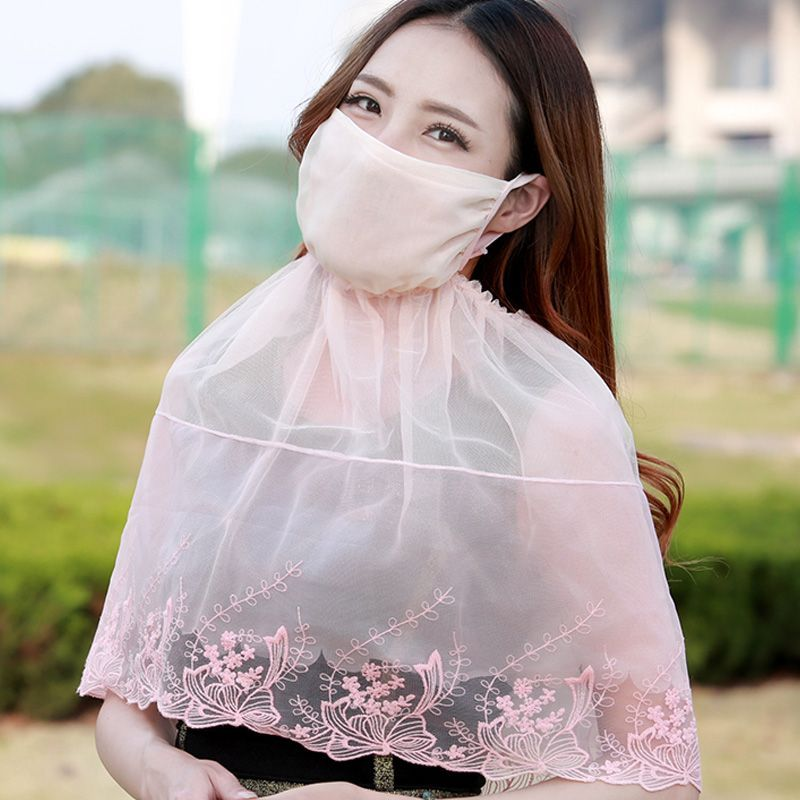face_mask: (305, 16, 509, 274)
